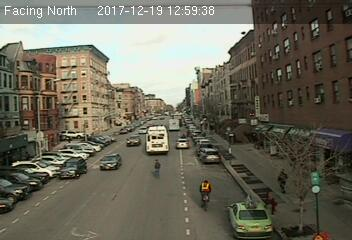bicycle: (198, 177, 211, 212)
bus: (145, 126, 169, 153)
car: (227, 195, 274, 235), (58, 157, 89, 177), (97, 154, 123, 169), (199, 149, 220, 162), (126, 135, 141, 147), (176, 138, 190, 149)
truck: (169, 118, 179, 131)
